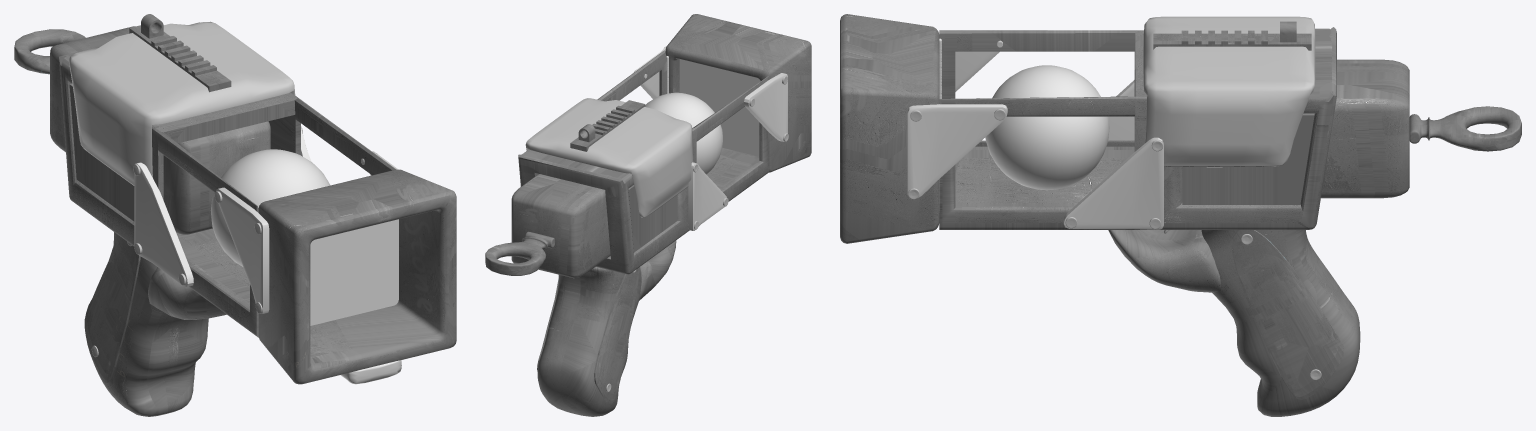
Rendered from shotgun desing 2.fbx.
The picture shows the model from 3 angles, left to right: view 1: azimuth 30°, elevation 25°; view 2: azimuth 150°, elevation 25°; view 3: azimuth 270°, elevation 25°; orthographic projection. The views are drawn at different scales.
Parts seen in each view (by area): view 1: Cube.002, Cube, Cube.006, handel hp.001, Cube.003, Cube.001, Sphere, Cube.004, Cube.013, Cube.012, Cube.007, handel hp.002 (+2 smaller); view 2: Cube, Cube.006, Cube.002, handel hp.001, Cube.001, Cube.003, Cube.004, Sphere, Cube.012, trekker hp, Cube.013, Cube.007 (+1 smaller); view 3: Cube, Cube.006, Cube.002, Cube.001, handel hp.001, Sphere, Cube.004, Cube.012, Cube.013, handel hp.002, trekker hp, Cube.007.
Part boxes in pixels (x1,y1,x2,y2): Cube.002: (258, 169, 456, 384); Cube: (59, 22, 396, 337); Cube.006: (69, 21, 295, 185); handel hp.001: (86, 232, 208, 416); Cube.003: (310, 219, 398, 325); Cube.001: (50, 26, 270, 234); Sphere: (210, 149, 330, 266); Cube.004: (84, 235, 140, 382); Cube.013: (134, 129, 311, 286); Cube.012: (216, 151, 398, 313); Cube.007: (129, 14, 231, 92); handel hp.002: (148, 267, 226, 319); Cube: (518, 50, 769, 274); Cube.006: (525, 98, 693, 217); Cube.002: (665, 14, 811, 172); handel hp.001: (537, 266, 641, 416); Cube.001: (511, 174, 610, 278); Cube.003: (679, 59, 760, 156); Cube.004: (537, 268, 638, 403); Sphere: (645, 92, 722, 174); Cube.012: (635, 46, 787, 141); trekker hp: (485, 231, 555, 275); Cube.013: (688, 162, 726, 230); Cube.007: (570, 100, 645, 151); Cube: (939, 27, 1336, 229); Cube.006: (1143, 16, 1315, 167); Cube.002: (840, 14, 939, 243); Cube.001: (1134, 59, 1409, 198); handel hp.001: (1201, 230, 1360, 416); Sphere: (985, 65, 1109, 190); Cube.004: (1231, 230, 1343, 399); Cube.012: (907, 32, 1007, 198); Cube.013: (1063, 80, 1163, 229); handel hp.002: (1108, 230, 1220, 292); trekker hp: (1409, 106, 1521, 151); Cube.007: (1153, 21, 1311, 50).
Bounding box in the file's own units: 377 × 851 × 1362.
